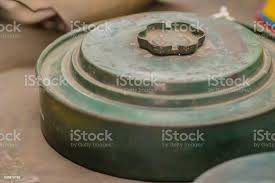car: (18, 4, 275, 183)
